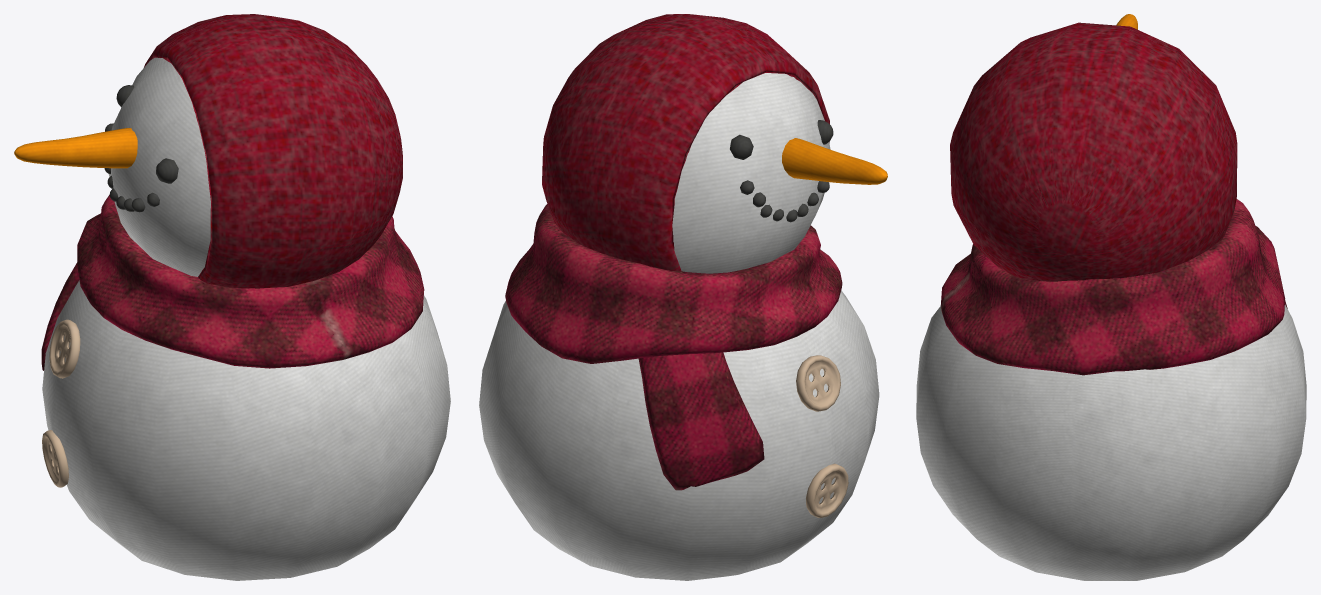
The model's file is snowman_1.glb.
3 views of the same model, side by side, from view 1: azimuth 30°, elevation 25°; view 2: azimuth 150°, elevation 25°; view 3: azimuth 270°, elevation 25° (orthographic). The views are drawn at different scales.
Visible parts, largest first — view 1: polySurface41, polySurface36, polySurface39, polySurface37, polySurface38, polySurface44, polySurface35, polySurface42; view 2: polySurface41, polySurface39, polySurface36, polySurface37, polySurface38, polySurface44, polySurface35, polySurface42; view 3: polySurface41, polySurface36, polySurface39.
Boxes of the visible parts, left/top/right/bottom form: polySurface41: left=42, top=57, right=450, bottom=580; polySurface36: left=144, top=14, right=402, bottom=288; polySurface39: left=41, top=195, right=424, bottom=370; polySurface37: left=14, top=128, right=137, bottom=168; polySurface38: left=49, top=319, right=80, bottom=378; polySurface44: left=42, top=430, right=68, bottom=487; polySurface35: left=104, top=123, right=159, bottom=212; polySurface42: left=116, top=85, right=178, bottom=183; polySurface41: left=479, top=73, right=879, bottom=580; polySurface39: left=505, top=204, right=842, bottom=490; polySurface36: left=542, top=14, right=829, bottom=271; polySurface37: left=782, top=138, right=887, bottom=184; polySurface38: left=796, top=355, right=840, bottom=411; polySurface44: left=806, top=463, right=848, bottom=517; polySurface35: left=740, top=180, right=829, bottom=222; polySurface42: left=730, top=120, right=833, bottom=159; polySurface41: left=916, top=304, right=1306, bottom=580; polySurface36: left=950, top=22, right=1237, bottom=281; polySurface39: left=940, top=199, right=1287, bottom=375.
Size of the model in its own units: 0.2936 by 0.3671 by 0.2581.
Materials: 2 (2 with a texture image).
